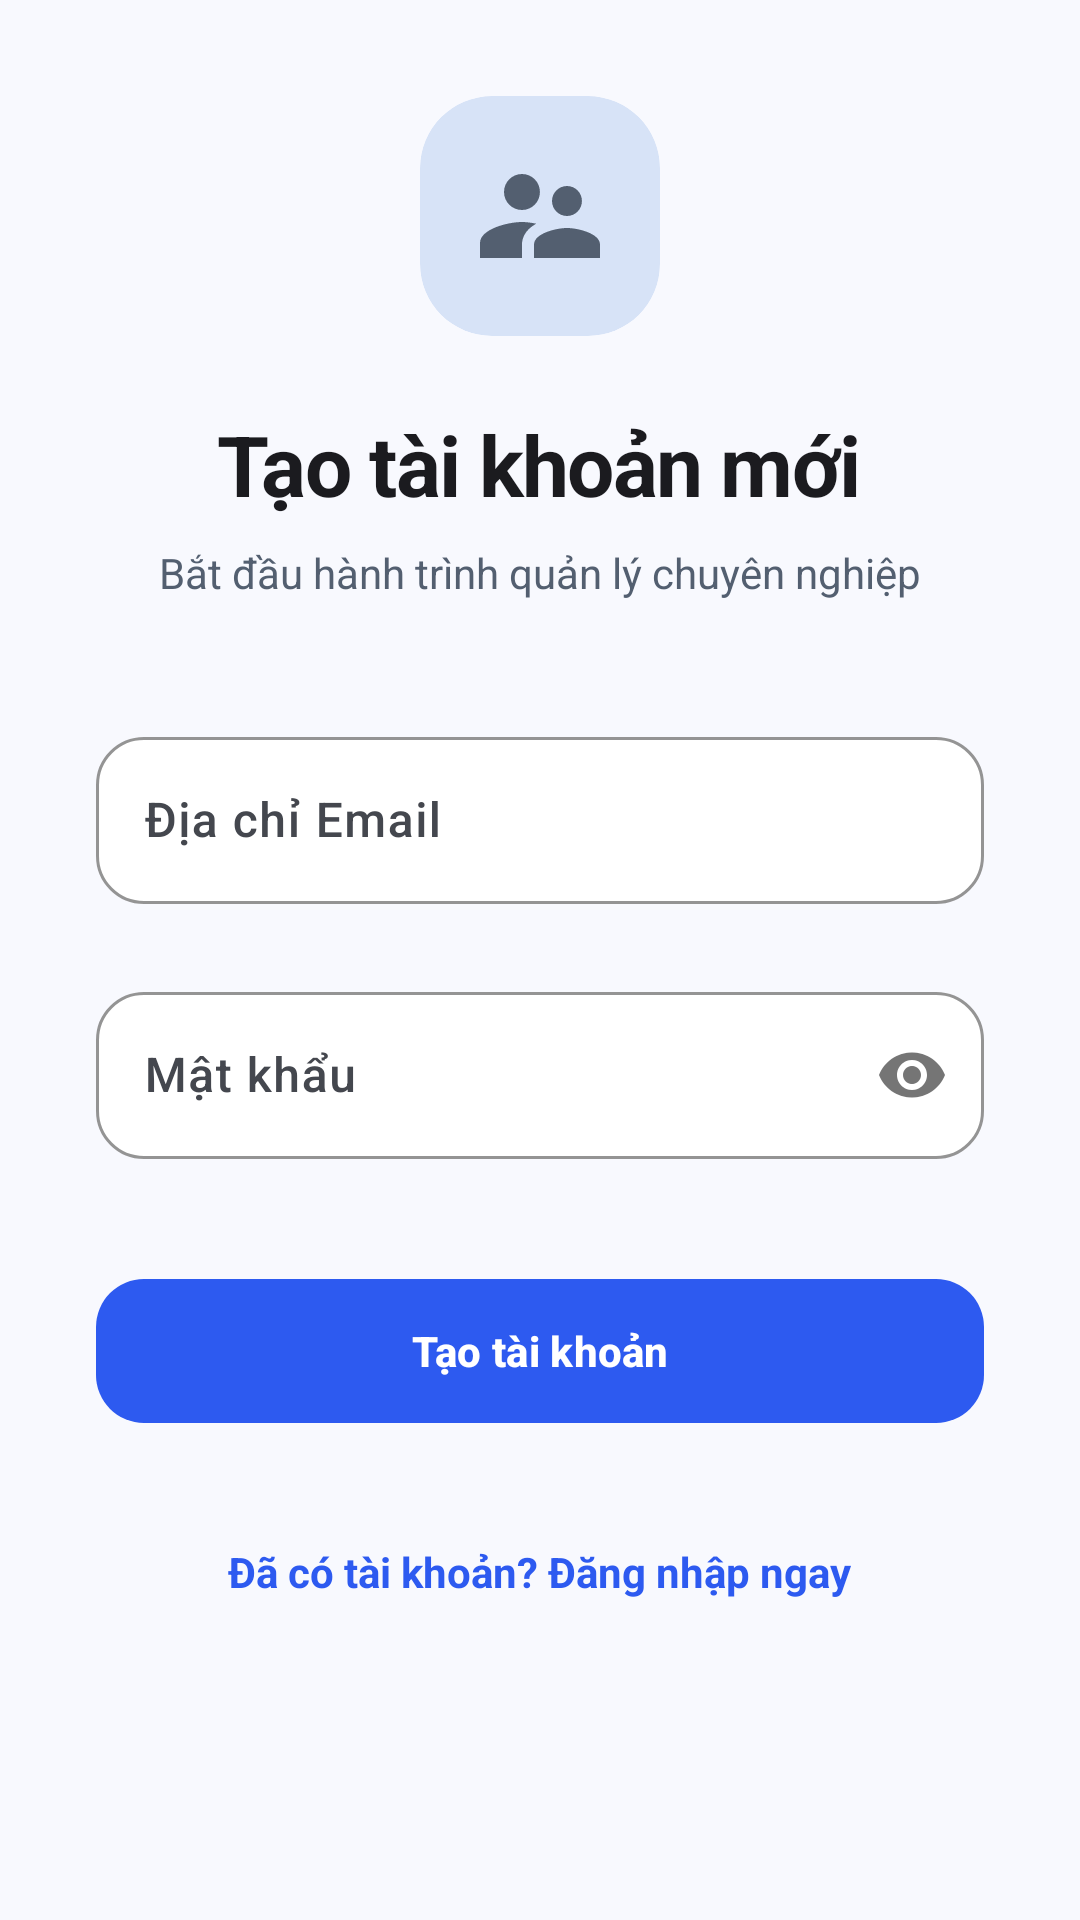

Where to tap for icons on this 1080px×1920px app screen, as [x,y]:
people: [540,216]
